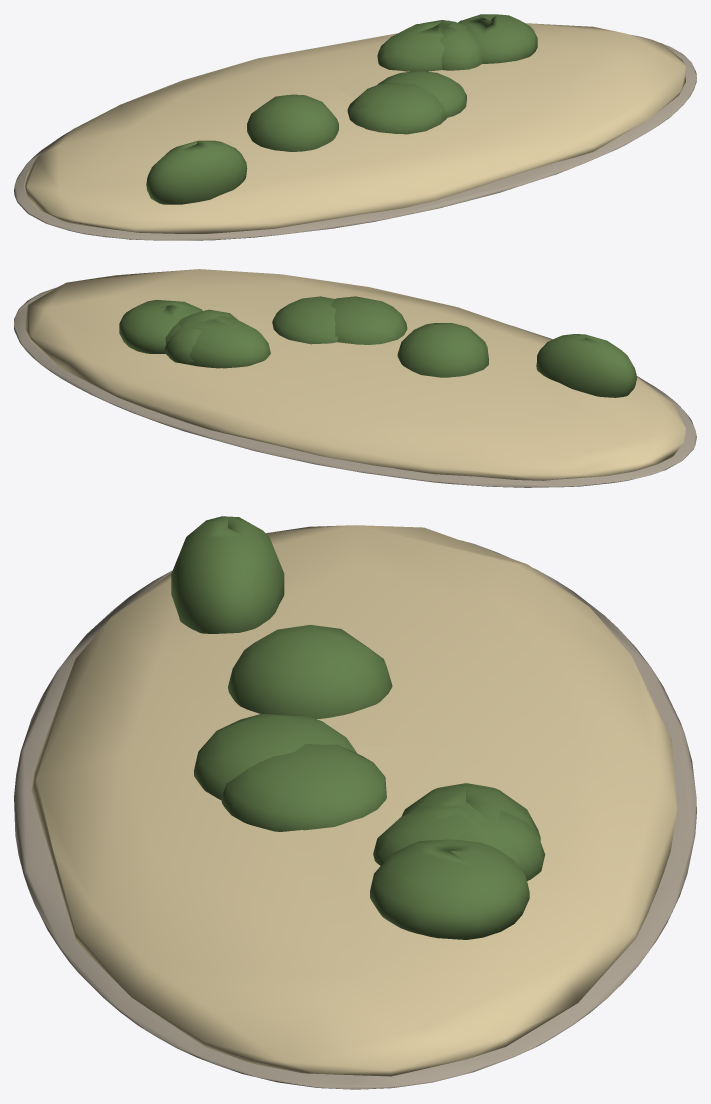
The model's file is g12-islet-sandy-scrub.lod1.glb.
3 views of the same model, one above another, from view 1: azimuth 30°, elevation 25°; view 2: azimuth 150°, elevation 25°; view 3: azimuth 270°, elevation 25° (orthographic). The views are drawn at different scales.
Parts seen in each view (by area): view 1: part0, part1, part2, part8, part6, part3, part7, part5, part4; view 2: part0, part1, part2, part8, part7, part6, part3, part4, part5; view 3: part0, part1, part3, part8, part4, part2, part6, part5, part7.
Part boxes in pixels (left/top/right/bottom): part0: left=24, top=23, right=685, bottom=233; part1: left=14, top=35, right=696, bottom=240; part2: left=146, top=140, right=247, bottom=204; part8: left=247, top=94, right=338, bottom=151; part6: left=347, top=82, right=446, bottom=134; part3: left=458, top=14, right=537, bottom=63; part7: left=377, top=20, right=467, bottom=71; part5: left=421, top=20, right=482, bottom=70; part4: left=377, top=70, right=466, bottom=117; part0: left=24, top=269, right=685, bottom=480; part1: left=14, top=287, right=696, bottom=487; part2: left=536, top=334, right=636, bottom=397; part8: left=397, top=323, right=488, bottom=377; part7: left=164, top=316, right=270, bottom=368; part6: left=331, top=296, right=407, bottom=344; part3: left=119, top=300, right=202, bottom=353; part4: left=272, top=296, right=338, bottom=344; part5: left=166, top=309, right=237, bottom=365; part0: left=31, top=525, right=677, bottom=1076; part1: left=14, top=540, right=696, bottom=1089; part3: left=370, top=839, right=529, bottom=939; part8: left=228, top=624, right=392, bottom=718; part4: left=221, top=744, right=386, bottom=831; part2: left=171, top=516, right=284, bottom=633; part6: left=194, top=713, right=357, bottom=799; part5: left=373, top=805, right=545, bottom=880; part7: left=401, top=783, right=540, bottom=877.
Size of the model in its own units: 30800 by 4068 by 15793.
